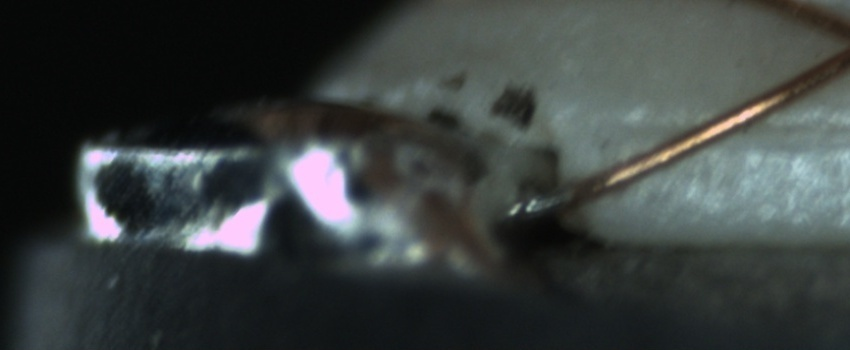CL: (809, 5, 850, 84)
DL: (624, 92, 847, 165)
TS: (497, 187, 575, 222)
